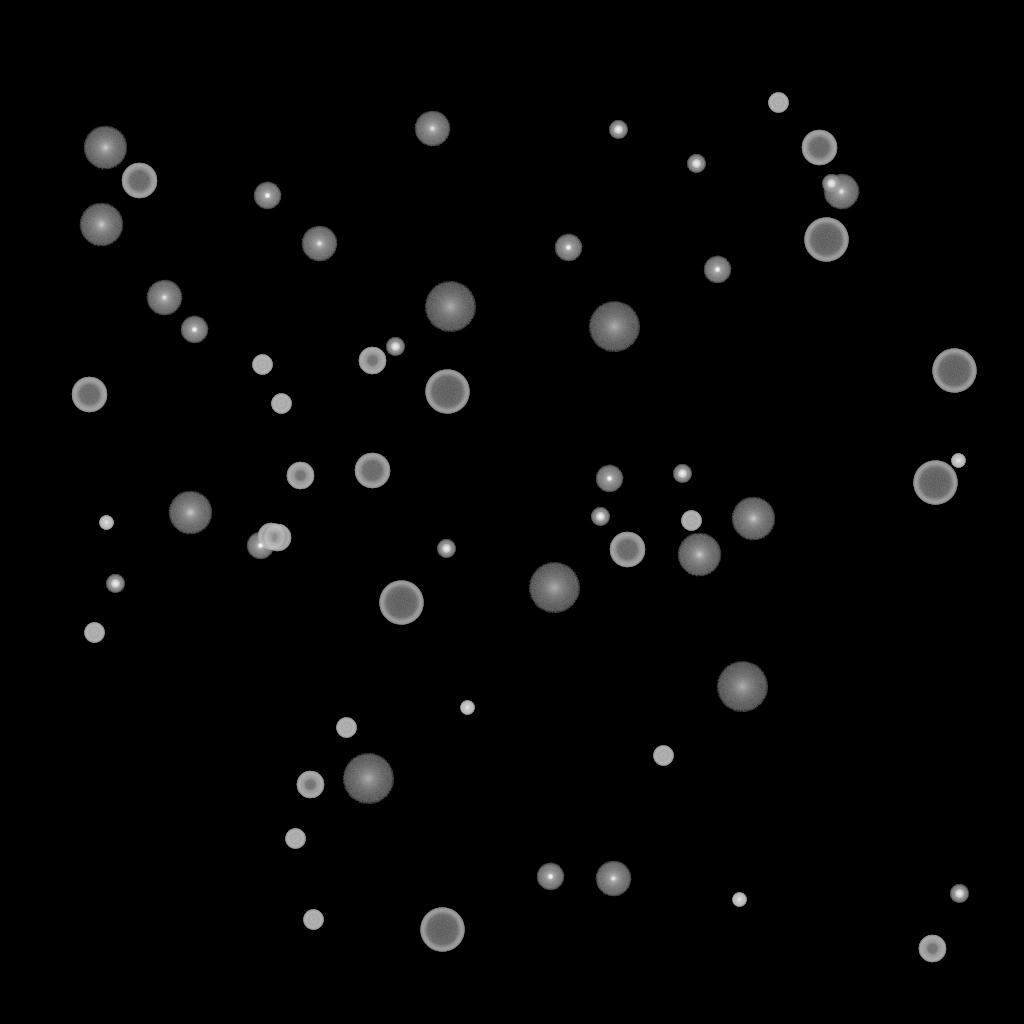depth:-10: (536, 863, 564, 891), (554, 234, 582, 262), (180, 316, 208, 344), (253, 182, 281, 210), (246, 532, 274, 560), (595, 465, 623, 493), (703, 256, 731, 284)
depth:-20: (673, 465, 691, 483), (386, 338, 404, 356), (822, 175, 840, 193), (950, 885, 968, 903), (106, 575, 124, 593), (437, 540, 455, 558), (687, 155, 705, 173), (591, 508, 609, 526), (609, 121, 627, 139)
depth:-30: (951, 454, 965, 468), (732, 893, 746, 907), (99, 516, 113, 530), (460, 701, 474, 715)
depth:-40: (84, 623, 104, 643), (681, 511, 701, 531), (653, 746, 673, 766), (768, 93, 788, 113), (303, 910, 323, 930), (336, 718, 356, 738), (252, 355, 272, 375), (285, 829, 305, 849), (271, 394, 291, 414)
depth:-50: (263, 524, 291, 552), (257, 523, 285, 551), (918, 935, 946, 963), (296, 771, 324, 799), (286, 462, 314, 490), (358, 347, 386, 375)
depth:-60: (71, 377, 107, 413), (354, 453, 390, 489), (801, 130, 837, 166), (121, 163, 157, 199), (609, 532, 645, 568)
depth:-70: (804, 218, 848, 262), (932, 349, 976, 393), (425, 370, 469, 414), (913, 461, 957, 505), (420, 908, 464, 952), (379, 581, 423, 625)
depth:0: (595, 861, 631, 897), (414, 111, 450, 147), (301, 226, 337, 262), (823, 174, 859, 210), (146, 280, 182, 316)
depth:10: (168, 491, 212, 535), (731, 497, 775, 541), (677, 533, 721, 577), (83, 126, 127, 170), (79, 203, 123, 247)
depth:20: (588, 302, 640, 352), (528, 563, 580, 613), (424, 282, 476, 332), (342, 754, 394, 804), (716, 662, 768, 712)
